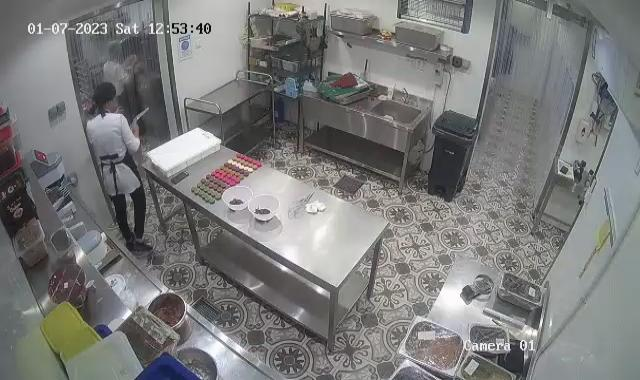no_hairnet: (91, 82, 117, 106)
